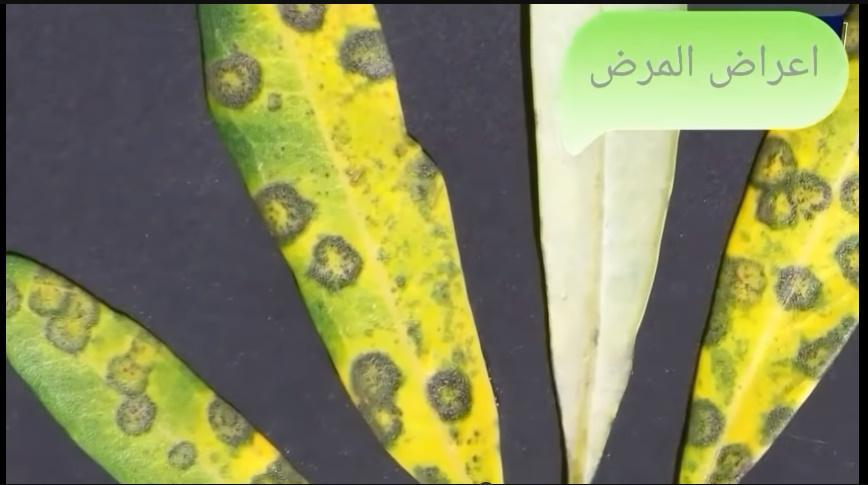OlivePeacockSpot: (193, 3, 503, 484), (677, 54, 859, 485), (6, 256, 302, 482)
